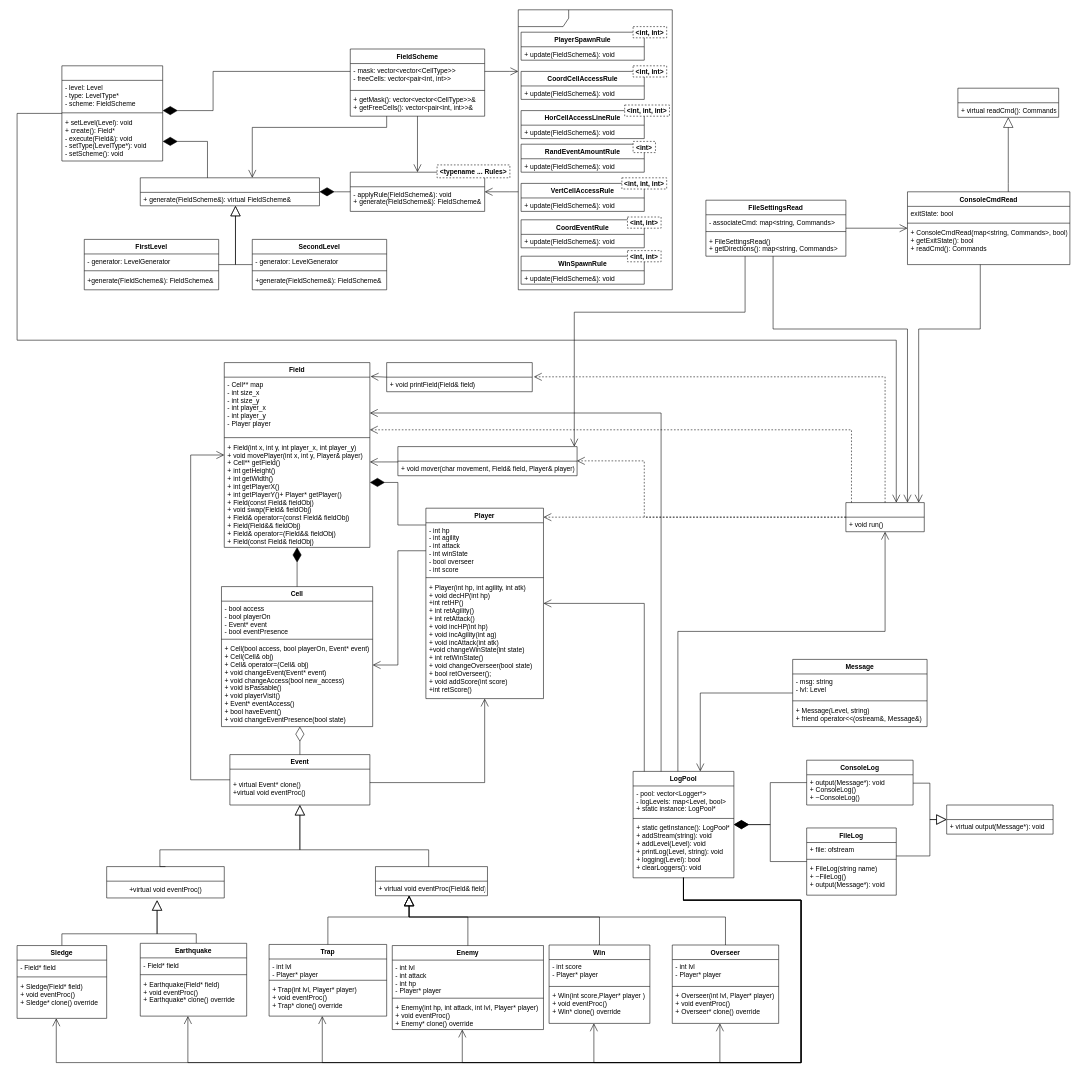
This 1080x1080 diagram has some shape labels left out. The shapes that lost their labels are listed below. From the top down, each one's box as (x1, y1, x2, y2) in pixels, then its label:
(61, 65, 163, 161): FieldGen
(957, 88, 1059, 117): ICmdRead
(518, 9, 672, 290): Seeding rules
(140, 177, 319, 206): LevelType
(350, 172, 485, 211): LevelGenerator
(386, 362, 532, 392): FieldView
(397, 446, 577, 476): Controller
(845, 502, 924, 532): Execute
(946, 804, 1053, 834): Logger
(106, 866, 224, 898): Map_Events
(375, 866, 487, 896): Player_Events
